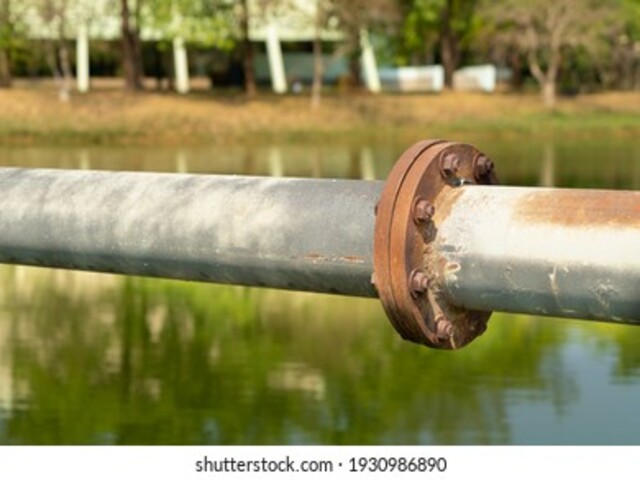Low: (522, 185, 639, 227)
Moderate: (376, 123, 500, 351)
